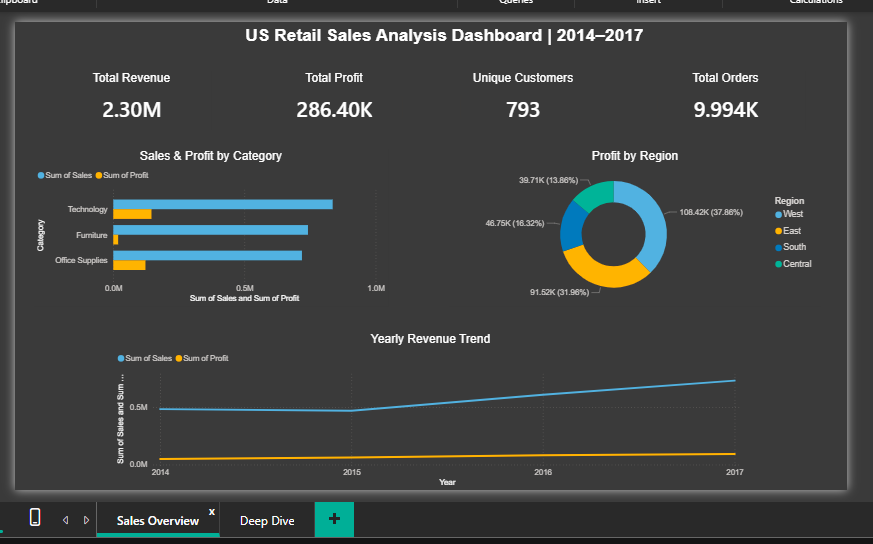

Layout of this report page (visuals, bound fields, positions):
{"tool":"powerbi","page":{"name":" Sales Overview","canvas":[1280,720],"ordinal":0},"visuals":[{"type":"clusteredBarChart","title":"Sales & Profit by Category","fields":{"Category":["category_sales.Category"],"Y":["Sum(category_sales.Sales)","Sum(category_sales.Profit)"]},"box":[29.2,195.4,544.6,241.5],"z":0},{"type":"lineChart","title":"Yearly Revenue Trend","fields":{"Category":["yearly_trend.Order Date.Variation.Date Hierarchy.Year"],"Y":["Sum(yearly_trend.Sales)","Sum(yearly_trend.Profit)"]},"box":[152.3,476.9,973.8,243.1],"z":1000},{"type":"donutChart","title":"Profit by Region","fields":{"Category":["region_sales.Region"],"Y":["Sum(region_sales.Profit)"]},"box":[667.7,195.4,572.3,241.5],"z":2000},{"type":"cardVisual","title":"Total Profit","fields":{"Data":["Sum(yearly_trend.Profit)"]},"box":[367.7,75.4,246.2,90.8],"z":3000},{"type":"cardVisual","title":"Total Revenue ","fields":{"Data":["Sum(yearly_trend.Sales)"]},"box":[56.9,75.4,244.6,90.8],"z":4000},{"type":"cardVisual","title":"Unique Customers","fields":{"Data":["Count(Sample - Superstore.Customer ID)"]},"box":[667.7,75.4,227.7,90.8],"z":5000},{"type":"cardVisual","title":"Total Orders","fields":{"Data":["CountNonNull(Sample - Superstore.Row ID)"]},"box":[970.8,75.4,244.6,90.8],"z":6000},{"type":"textbox","box":[335.4,0,650.8,52.3],"z":6001}]}

Visuals, with their boxes on the page's 1280x720 design canvas (x1, y1, x2, y2). These are canvas units, not pixel positions in the 873x544 screenshot, which may show the page scaled, cropped or inside an application window:
"Sales & Profit by Category" clusteredBarChart: 29,195,574,437
"Yearly Revenue Trend" lineChart: 152,477,1126,720
"Profit by Region" donutChart: 668,195,1240,437
"Total Profit" cardVisual: 368,75,614,166
"Total Revenue " cardVisual: 57,75,302,166
"Unique Customers" cardVisual: 668,75,895,166
"Total Orders" cardVisual: 971,75,1215,166
textbox: 335,0,986,52
